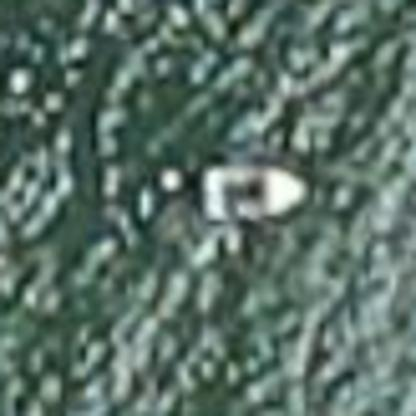ship: (194, 158, 314, 229)
